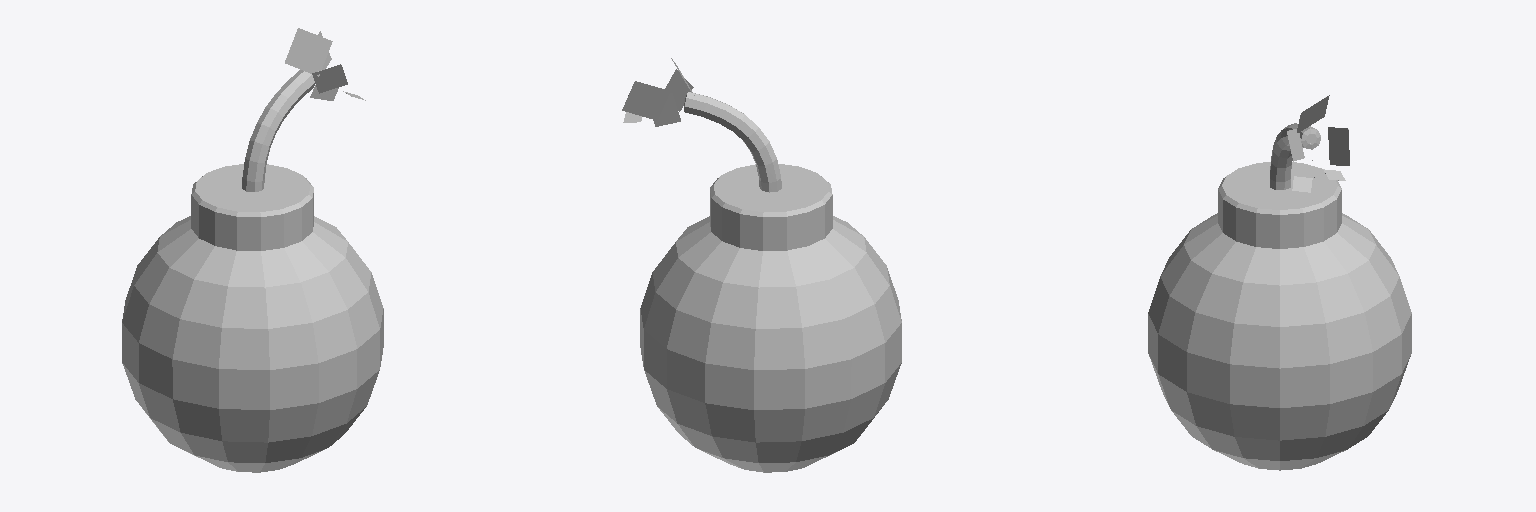
The model's file is bomb_000019.obj.
3 views of the same model, side by side, from view 1: azimuth 30°, elevation 25°; view 2: azimuth 150°, elevation 25°; view 3: azimuth 270°, elevation 25° (orthographic).
Visible parts, largest first — view 1: Sphere, NurbsPath, Plane_5.001_Mesh.001; view 2: Sphere, NurbsPath, Plane_5.001_Mesh.001; view 3: Sphere, Plane_5.001_Mesh.001, NurbsPath.
Boxes of the visible parts, x1,y1,x2,y2 form: Sphere: [122, 164, 383, 472]; NurbsPath: [242, 70, 315, 191]; Plane_5.001_Mesh.001: [285, 28, 365, 100]; Sphere: [640, 164, 901, 472]; NurbsPath: [684, 92, 781, 192]; Plane_5.001_Mesh.001: [622, 58, 694, 126]; Sphere: [1148, 162, 1411, 470]; Plane_5.001_Mesh.001: [1287, 95, 1349, 192]; NurbsPath: [1270, 123, 1320, 189].
Size of the model in its own units: 0.9002 by 1.42 by 0.8758.